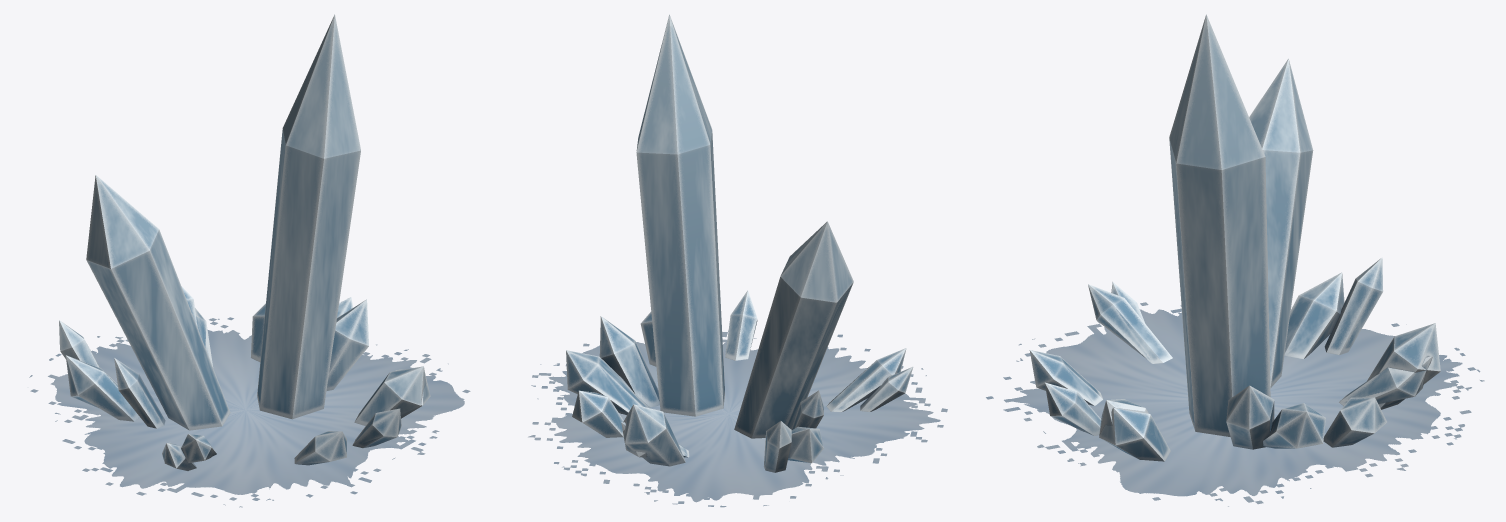
Rendered from 펑크_얼음가시_02.fbx.
3 views of the same model, side by side, from view 1: azimuth 30°, elevation 25°; view 2: azimuth 150°, elevation 25°; view 3: azimuth 270°, elevation 25° (orthographic). The views are drawn at different scales.
Visible parts, largest first — view 1: 펑크_얼음가시_02; view 2: 펑크_얼음가시_02; view 3: 펑크_얼음가시_02.
Boxes of the visible parts, left/top/right/bottom form: 펑크_얼음가시_02: left=29, top=14, right=470, bottom=507; 펑크_얼음가시_02: left=528, top=14, right=947, bottom=507; 펑크_얼음가시_02: left=986, top=14, right=1484, bottom=506.
Size of the model in its own units: 800 by 739 by 800.
Materials: 2 (2 with a texture image).
